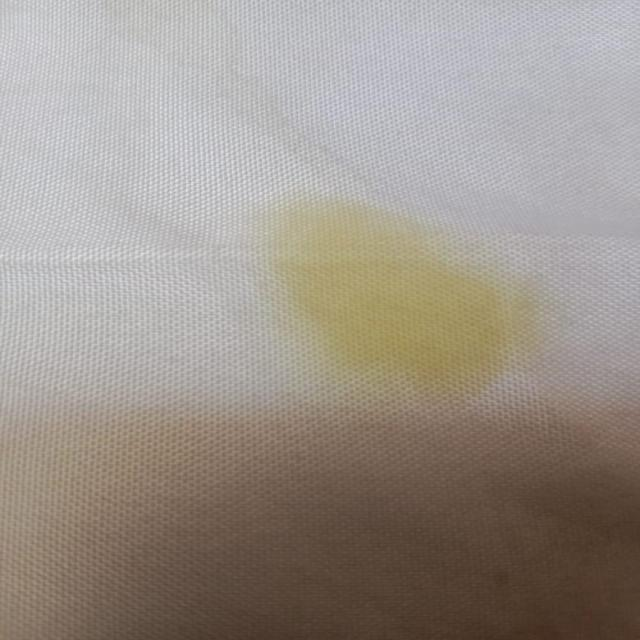stain: (253, 189, 545, 409)
